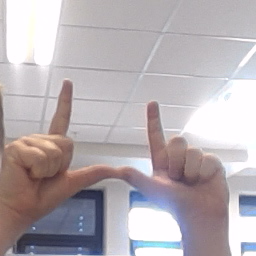U: (2, 76, 231, 223)
